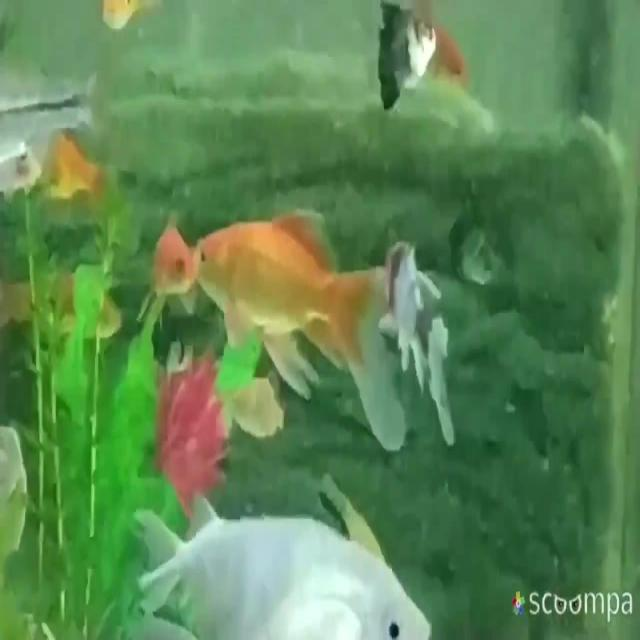GoldFish: (184, 200, 410, 456)
